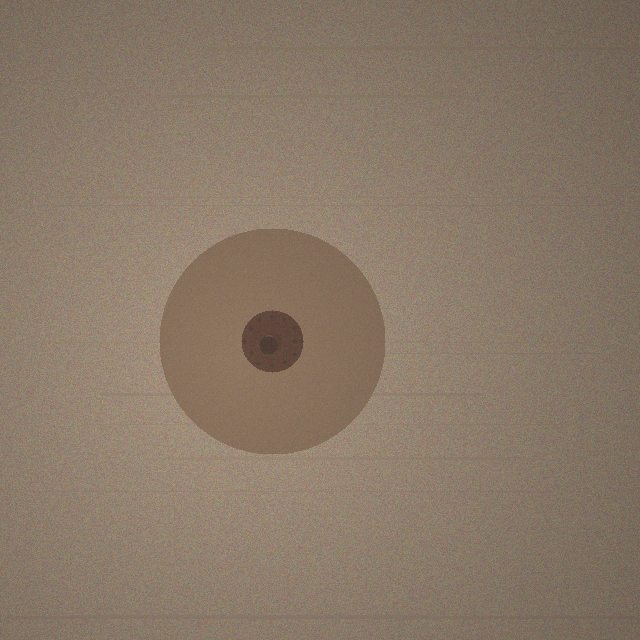cold_weld: (159, 228, 385, 454)
